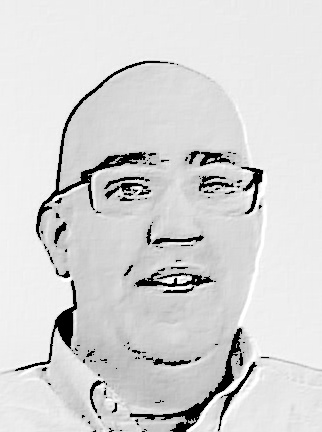nose_M_C: (146, 187, 206, 263)
